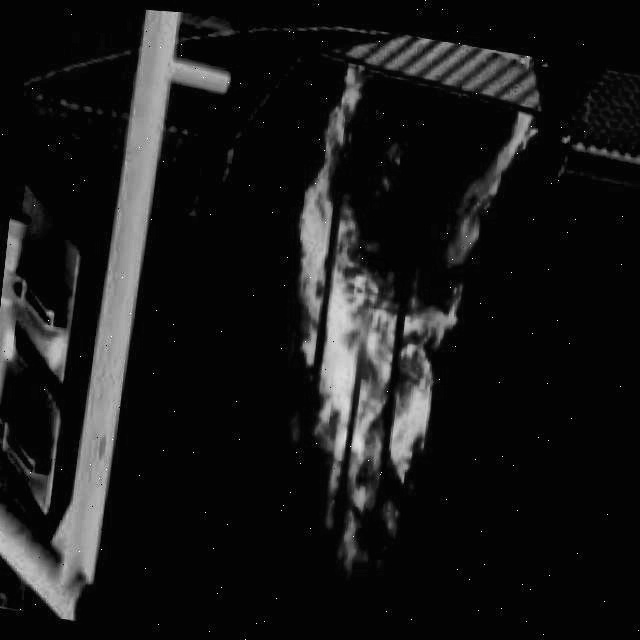Fire: (260, 51, 528, 587)
